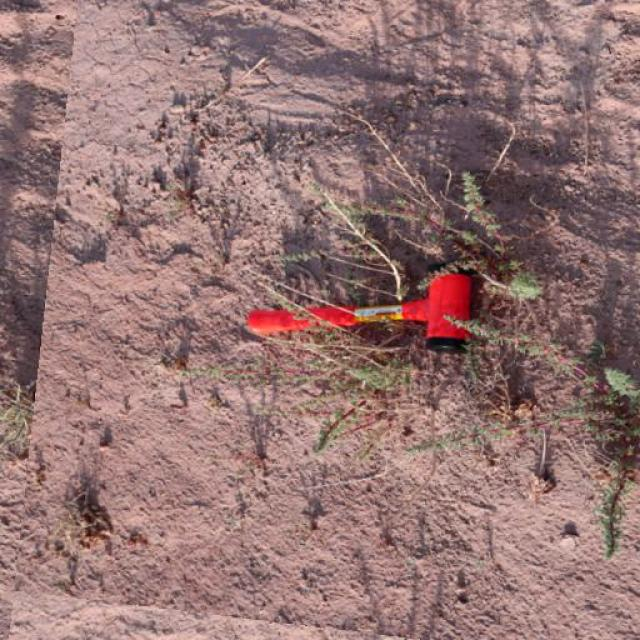mallet: (248, 265, 478, 354)
